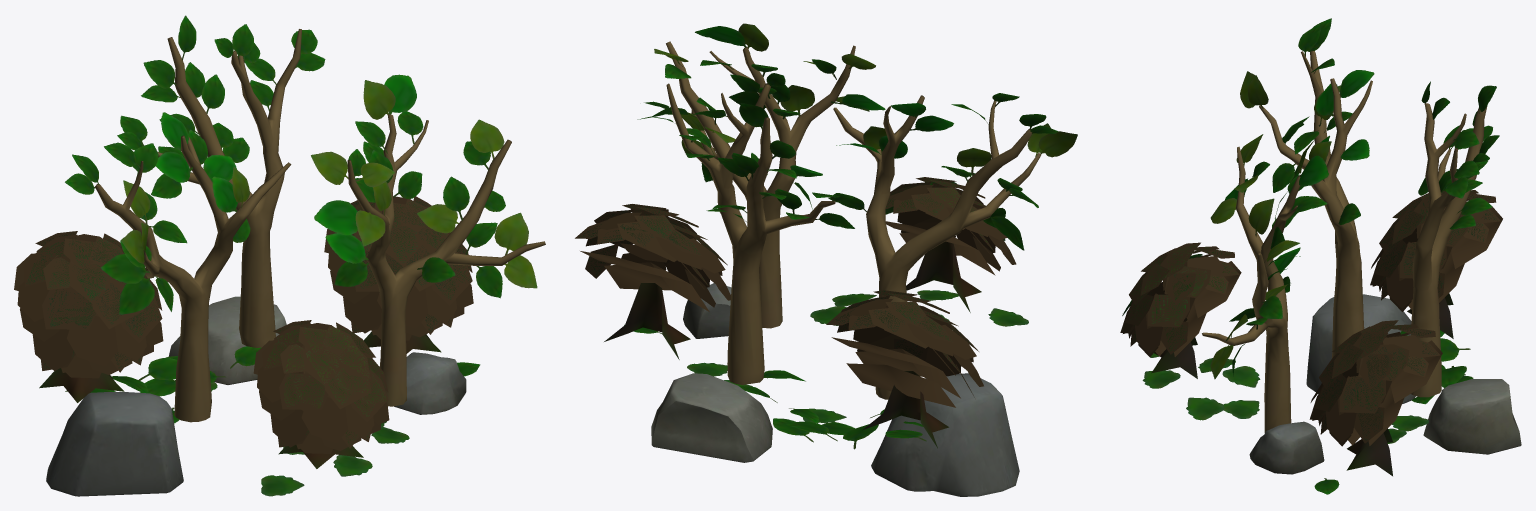
Rendered from small-trees.glb.
The picture shows the model from 3 angles, left to right: view 1: azimuth 30°, elevation 25°; view 2: azimuth 150°, elevation 25°; view 3: azimuth 270°, elevation 25°; orthographic projection. The views are drawn at different scales.
Bounding box in the file's own units: 28.99 × 24.39 × 24.47.
Materials: 6 (5 with a texture image).
